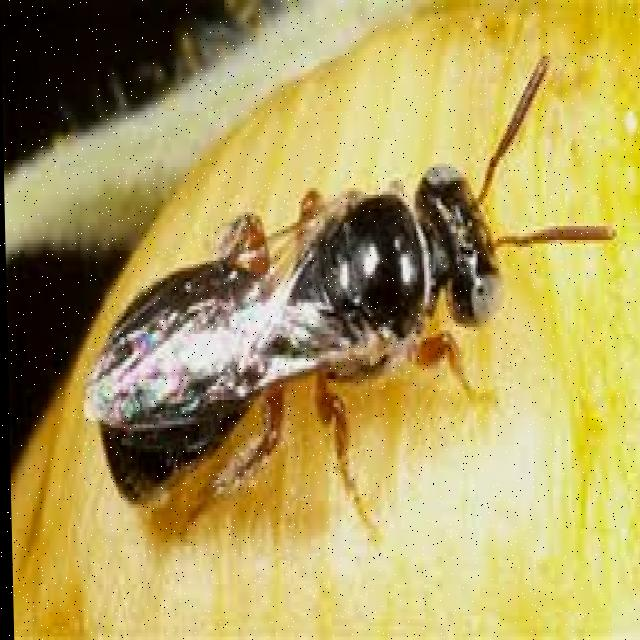Braunsapis: (54, 44, 626, 528)
